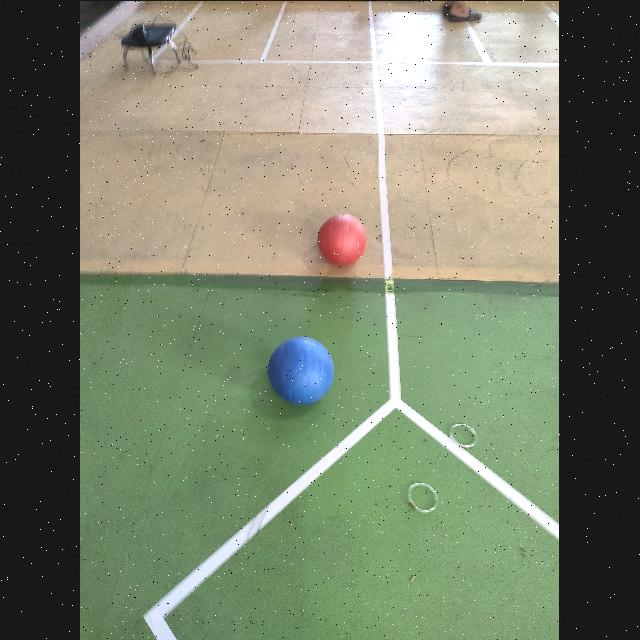B: (269, 336, 335, 404)
R: (318, 213, 368, 264)
